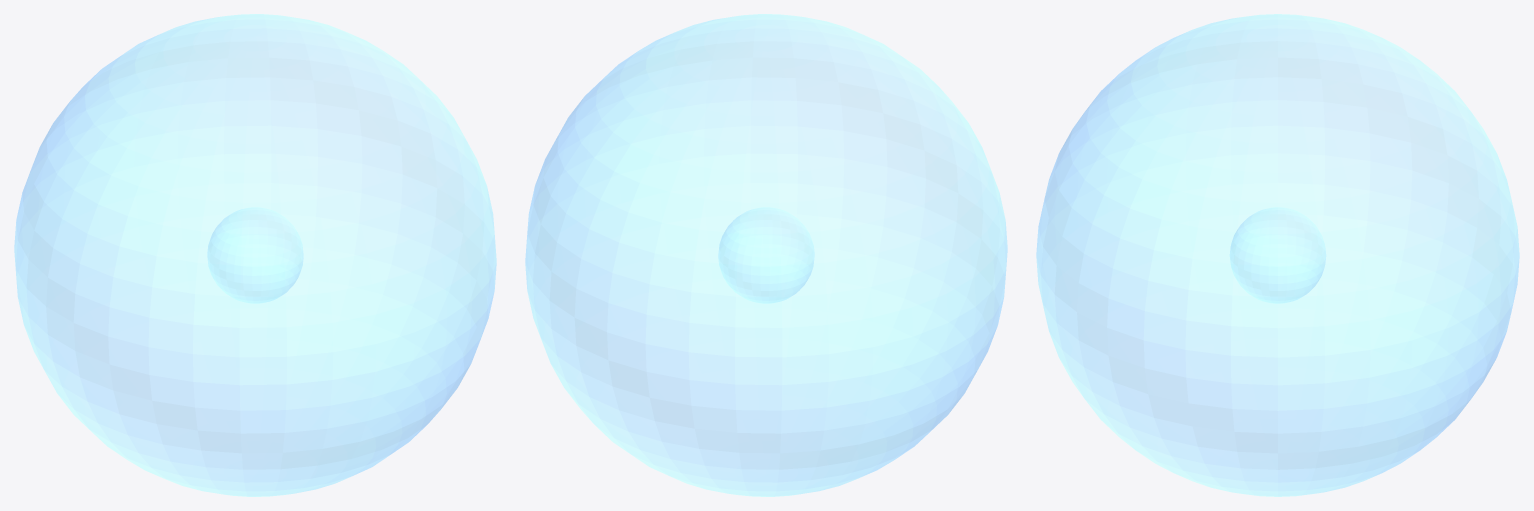
The model's file is ShieldBubble.glb.
The picture shows the model from 3 angles, left to right: view 1: azimuth 30°, elevation 25°; view 2: azimuth 150°, elevation 25°; view 3: azimuth 270°, elevation 25°; orthographic projection.
Parts seen in each view (by area): view 1: ShieldBubble, ShieldBubble_Core; view 2: ShieldBubble, ShieldBubble_Core; view 3: ShieldBubble, ShieldBubble_Core.
Part boxes in pixels (x1,y1,x2,y2): ShieldBubble: (14, 14, 496, 496); ShieldBubble_Core: (207, 207, 303, 303); ShieldBubble: (525, 14, 1007, 496); ShieldBubble_Core: (718, 207, 814, 303); ShieldBubble: (1036, 14, 1519, 496); ShieldBubble_Core: (1230, 207, 1325, 303).
Size of the model in its own units: 1 by 1 by 1.
